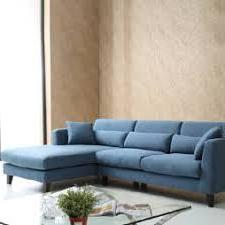sofa: (0, 116, 225, 199)
table: (0, 182, 189, 225)
